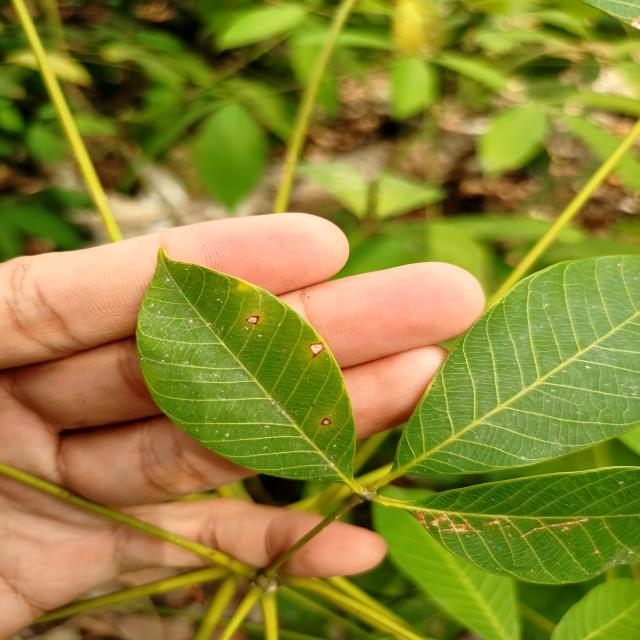Colletotrichum: (309, 342, 325, 358), (246, 315, 260, 325), (321, 417, 332, 426)
